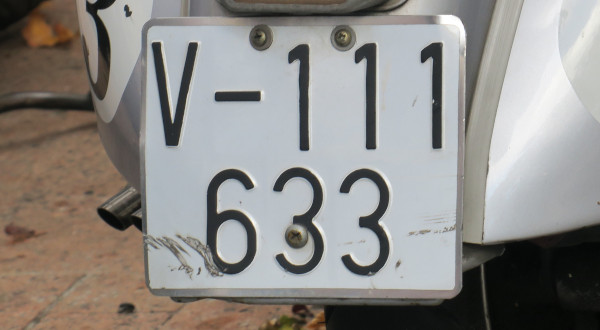license_plate: (140, 15, 464, 298)
